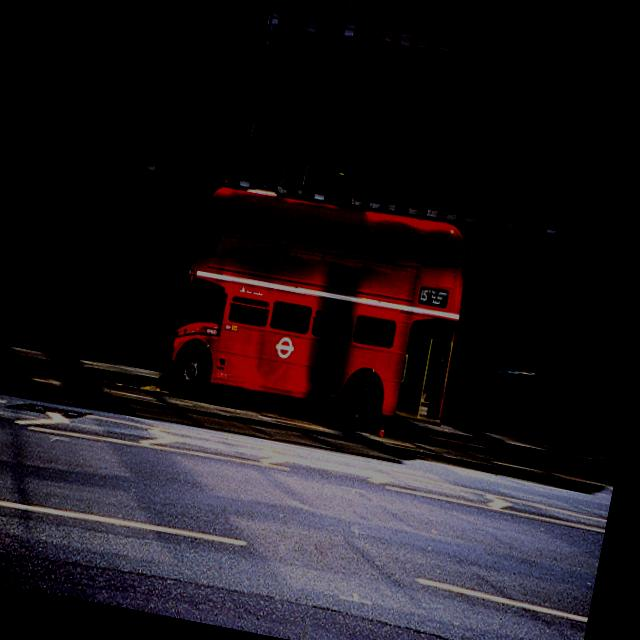Vehicle: (162, 174, 478, 447)
